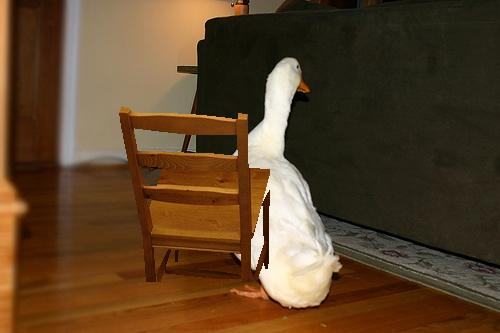tampered: (120, 108, 270, 282)
